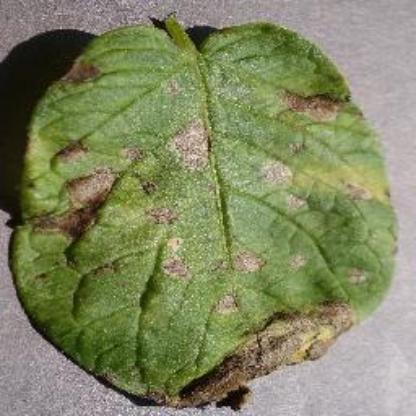Early-Blight: (15, 12, 390, 410)
